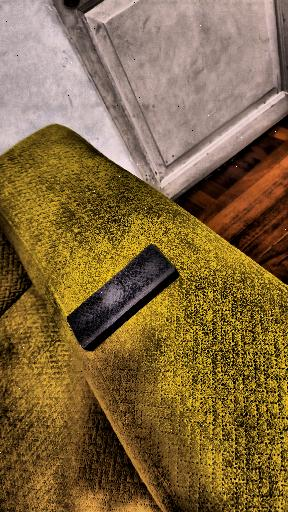borrador: (67, 244, 179, 350)
